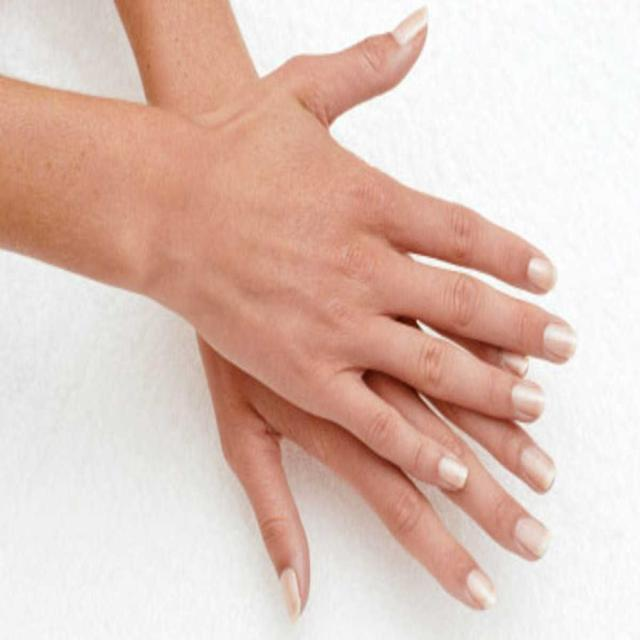Nail: (390, 5, 431, 46), (520, 447, 556, 492), (515, 517, 551, 558), (467, 568, 498, 611), (279, 569, 301, 628), (543, 323, 578, 360), (512, 384, 545, 419), (527, 257, 558, 291), (438, 457, 468, 490), (504, 352, 529, 375)
